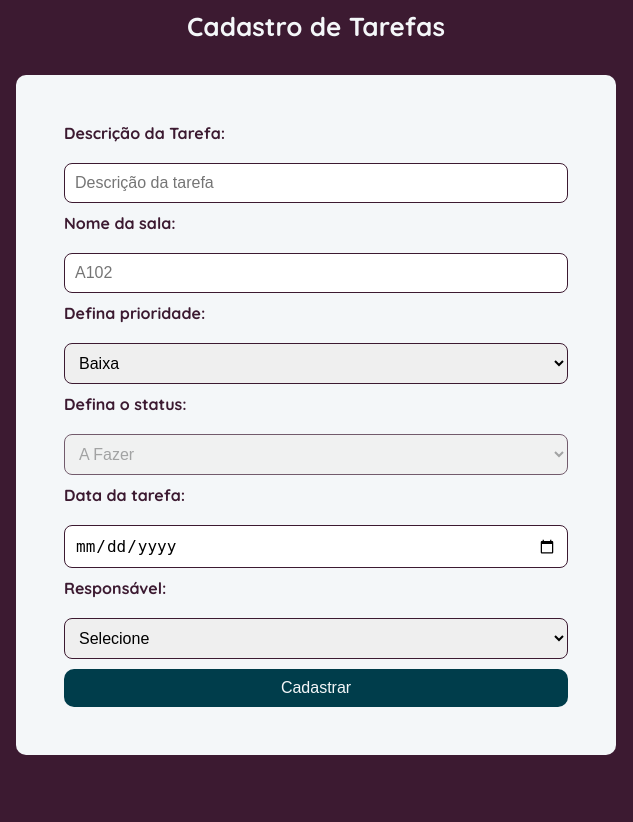
Scenario: Deve mostrar erro de inserir pelo meos 1 caracteres no campo
The width and height of the screenshot is (633, 822).
Type "2025-05-10" into the date field labelled "Data da tarefa:".
click(316, 546); type("2025-05-10")  # box [64,525,568,568]
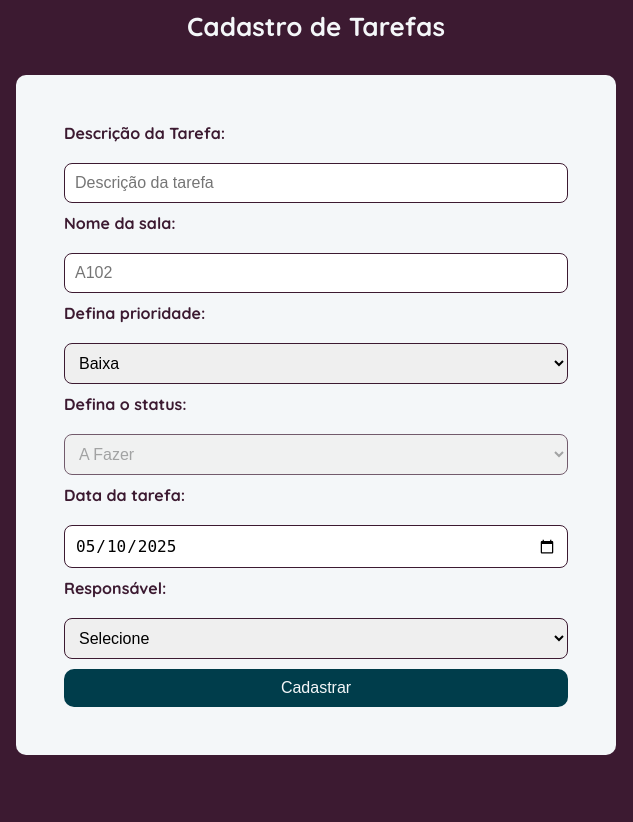
Select "Alta" in the dropdown labelled "Defina prioridade:" at (316, 364), box [64,343,568,384]
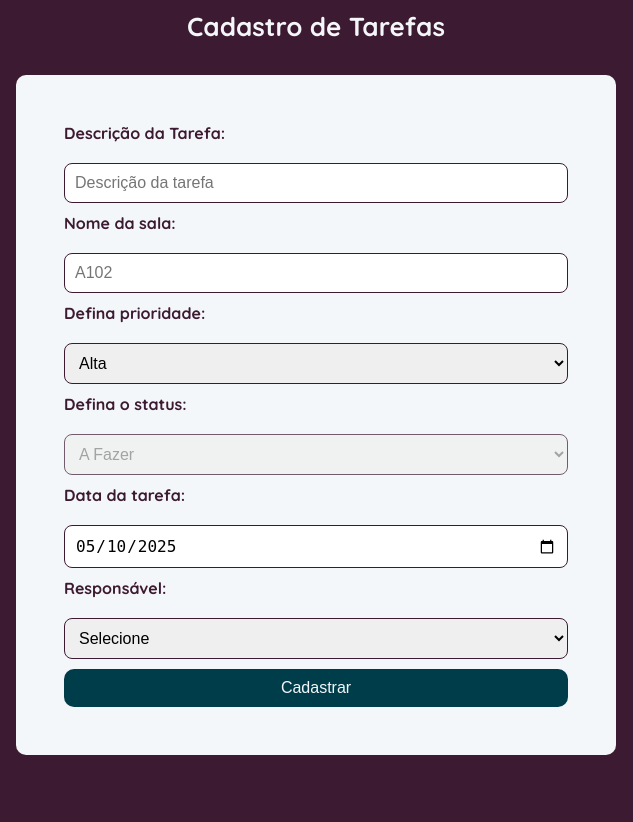
Select "A Fazer" in the dropdown labelled "Defina o status:" at (316, 454), box [64,434,568,475]
Select "15" in the dropdown labelled "Responsável:" at (316, 638), box [64,618,568,659]
Submit the form
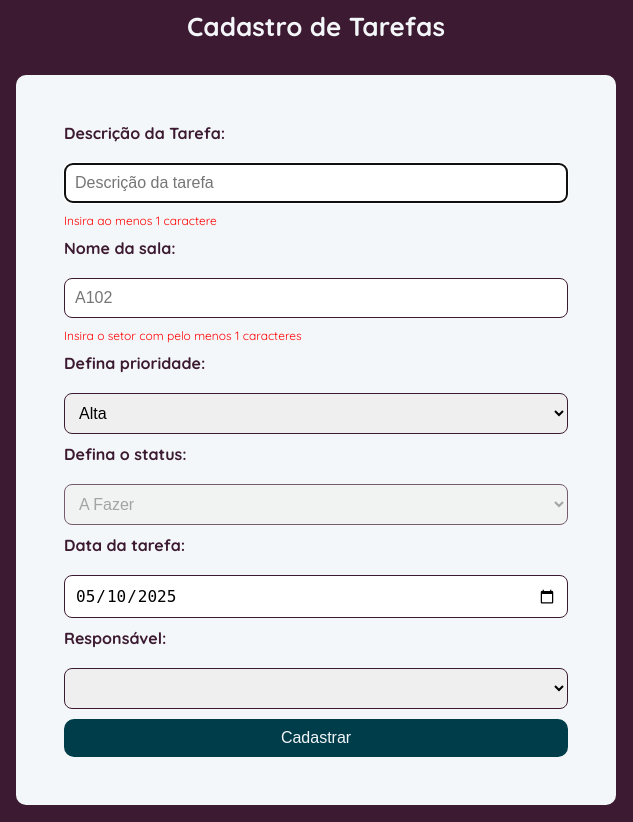
Result: the text "Insira ao menos 1 caractere" is shown at [64,213,217,228]
